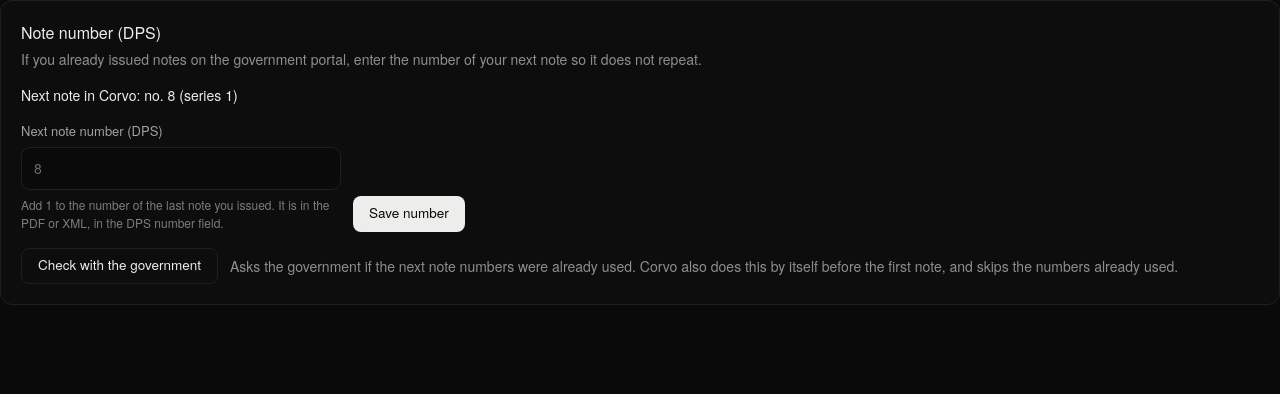
Scenario: DpsSequenceCard › confirms the numbering as it is when the next number is free
Later steps or results of the test are not shown.
Expected: the text "Next note in Corvo: no. 8 (series 1)" is shown, [21, 85, 238, 105]
What coordinates should you click on to do the following:
click the button "Check with the government"
I would click on:
 (120, 266)
Its box is [21, 248, 218, 284].
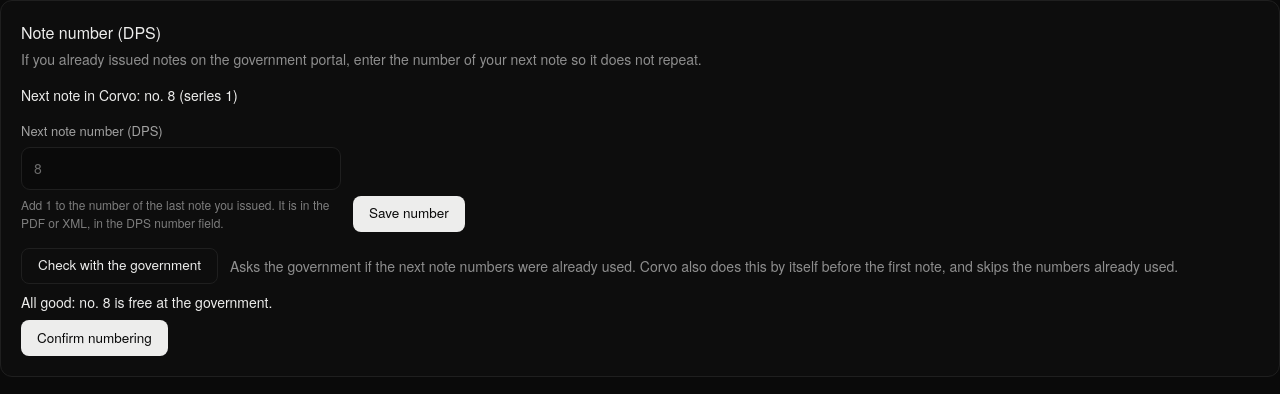
Now the text "All good: no. 8 is free at the government." is shown, box [21, 292, 272, 312]
